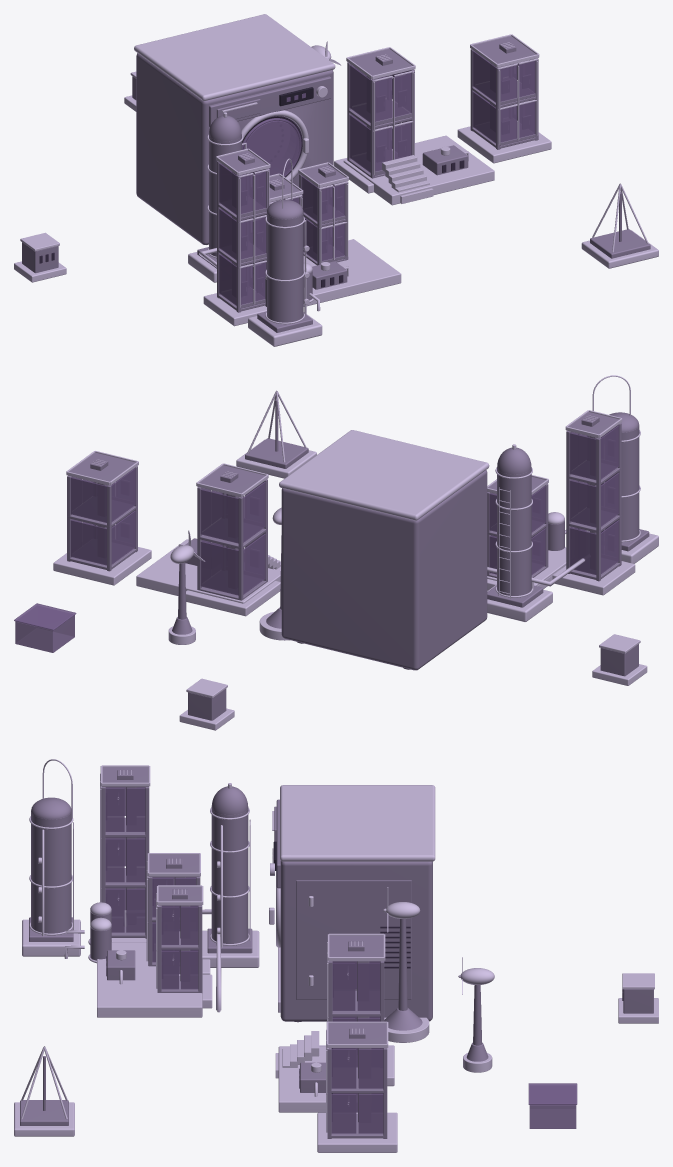
File: lifecycle-models.glb
The picture shows the model from 3 angles, top to bottom: view 1: azimuth 30°, elevation 25°; view 2: azimuth 150°, elevation 25°; view 3: azimuth 270°, elevation 25°; orthographic projection. The views are drawn at different scales.
Parts seen in each view (by area): view 1: FactoryModels_Glass, FactoryModels_Trim, ProductModels_Shell_Shell, ProductModels_Trim, FactoryModels_Shell, EnergyModels_Shell, EnergyModels_Trim, ProductModels_Shell, ProductModels_Glass; view 2: ProductModels_Shell_Shell, FactoryModels_Glass, ProductModels_Trim, FactoryModels_Shell, EnergyModels_Shell, FactoryModels_Trim, EnergyModels_Trim, EnergyModels_Glass, ProductModels_Shell; view 3: FactoryModels_Glass, FactoryModels_Trim, EnergyModels_Shell, ProductModels_Trim, FactoryModels_Shell, ProductModels_Shell, ProductModels_Shell_Shell, EnergyModels_Trim, EnergyModels_Glass, ProductModels_Cavity.
Part boxes in pixels (x1,y1,x2,y2): FactoryModels_Glass: [219, 51, 535, 305]; FactoryModels_Trim: [199, 34, 551, 326]; ProductModels_Shell_Shell: [136, 53, 333, 244]; ProductModels_Trim: [14, 14, 335, 282]; FactoryModels_Shell: [217, 36, 538, 312]; EnergyModels_Shell: [197, 115, 650, 332]; EnergyModels_Trim: [188, 45, 658, 346]; ProductModels_Shell: [22, 76, 331, 273]; ProductModels_Glass: [242, 93, 305, 176]; ProductModels_Shell_Shell: [281, 470, 487, 670]; FactoryModels_Glass: [70, 425, 619, 595]; ProductModels_Trim: [179, 430, 647, 730]; FactoryModels_Shell: [67, 412, 621, 600]; EnergyModels_Shell: [172, 399, 649, 634]; FactoryModels_Trim: [53, 410, 635, 616]; EnergyModels_Trim: [168, 375, 658, 644]; EnergyModels_Glass: [14, 603, 76, 652]; ProductModels_Shell: [188, 644, 638, 720]; FactoryModels_Glass: [105, 787, 383, 1133]; FactoryModels_Trim: [64, 765, 397, 1152]; EnergyModels_Shell: [20, 786, 488, 1125]; ProductModels_Trim: [269, 785, 658, 1023]; FactoryModels_Shell: [90, 767, 387, 1138]; ProductModels_Shell: [274, 799, 653, 1013]; ProductModels_Shell_Shell: [280, 861, 432, 1021]; EnergyModels_Trim: [14, 759, 494, 1136]; EnergyModels_Glass: [528, 1083, 577, 1128]; ProductModels_Cavity: [294, 926, 623, 1022].
Size of the model in its own units: 3.32 by 1.01 by 3.17.
